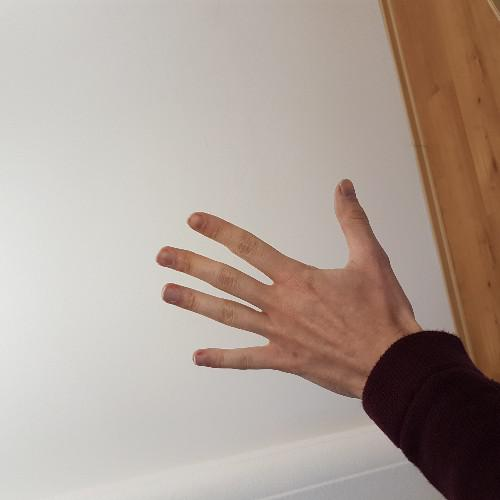paper: (149, 168, 438, 426)
